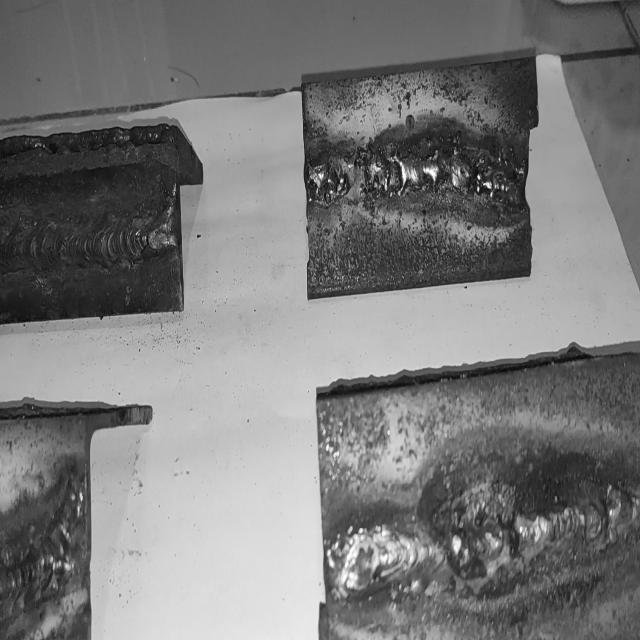Bad Weld: (328, 477, 633, 604)
Defect: (430, 437, 552, 628), (364, 140, 532, 210), (0, 528, 81, 614), (308, 146, 342, 212)
Good Weld: (6, 202, 175, 268)
